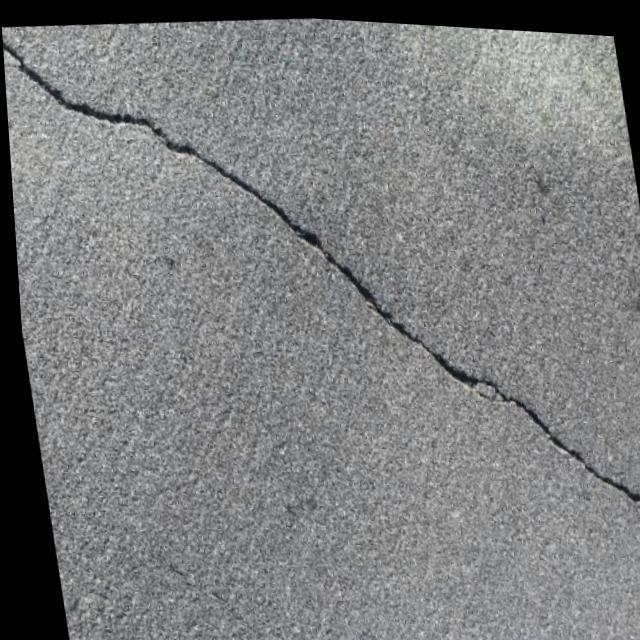Crack: (0, 0, 640, 615)
